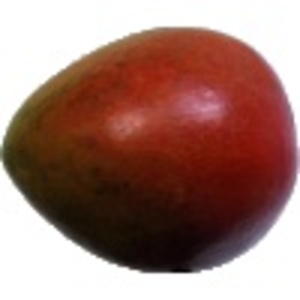manga: (1, 26, 300, 273)
